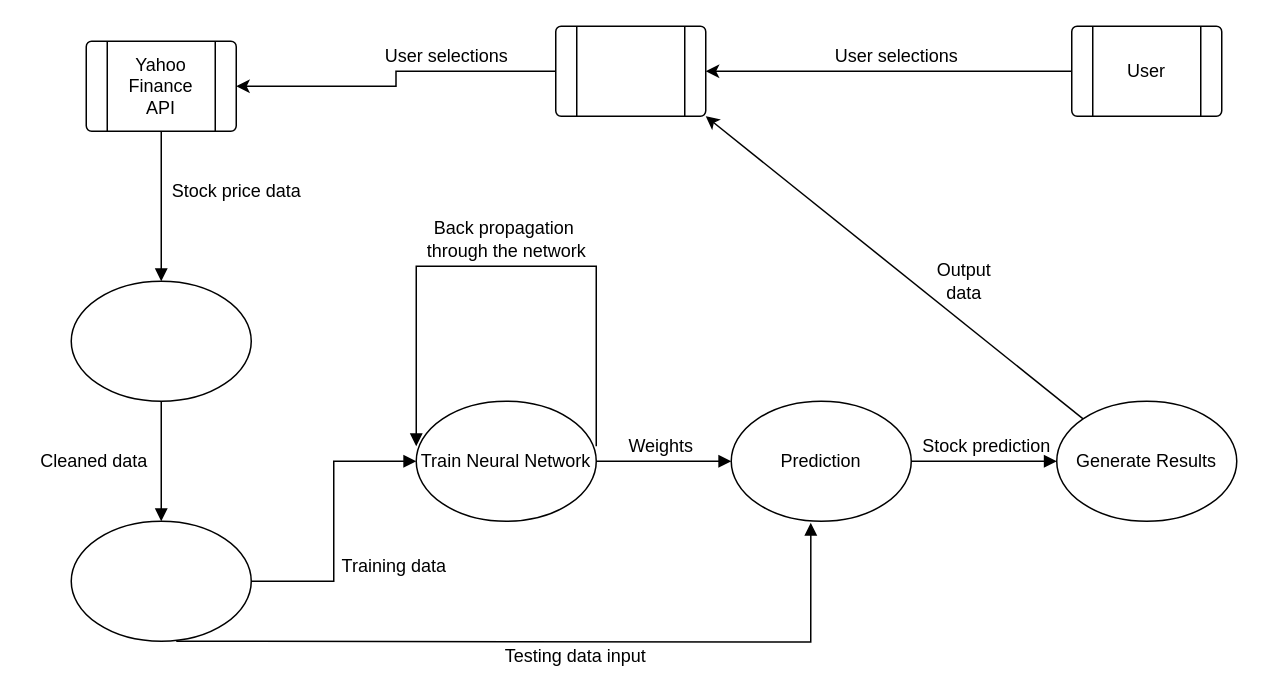
Some shapes in this 1263 by 698 pixel diagram are drawn without their labels. The box of each missing label's shape, as (x1, y1, x2, y2) in pixels:
Data retrieval and cleaning: (70, 280, 251, 401)
Split into Training and Testing datasets: (70, 520, 251, 641)
Website: (554, 25, 706, 116)
